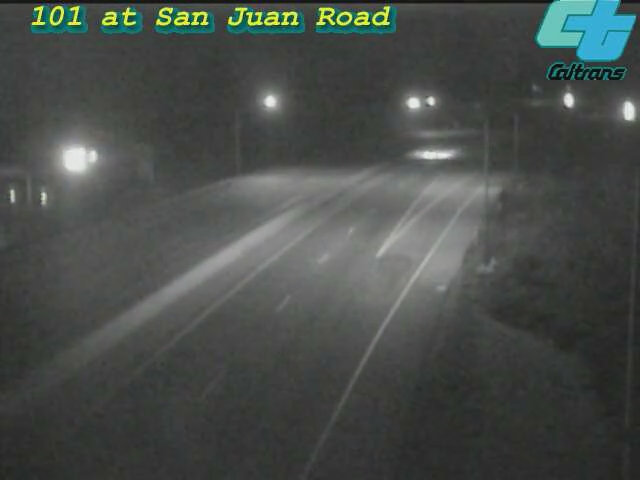vehicle: (411, 130, 461, 180), (602, 85, 640, 135), (604, 89, 640, 139)
